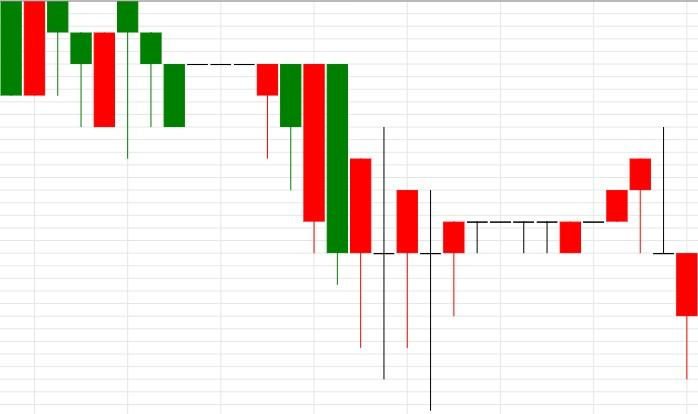bullish_engulfing_rise: (0, 0, 115, 128)
hammer_rise: (0, 0, 93, 127)
hanging_man_fall: (511, 157, 652, 253), (69, 0, 139, 159)
three_black_crows_fall: (69, 0, 186, 159)
